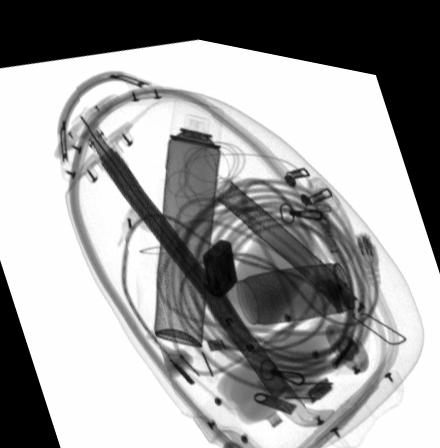Lighter: (202, 230, 236, 289)
Sprayer: (154, 89, 224, 339)
